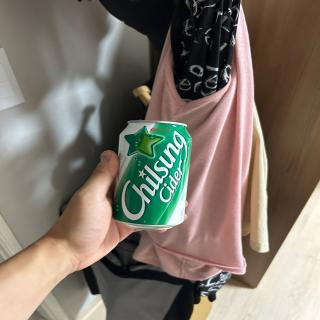chilsung: (109, 118, 194, 230)
